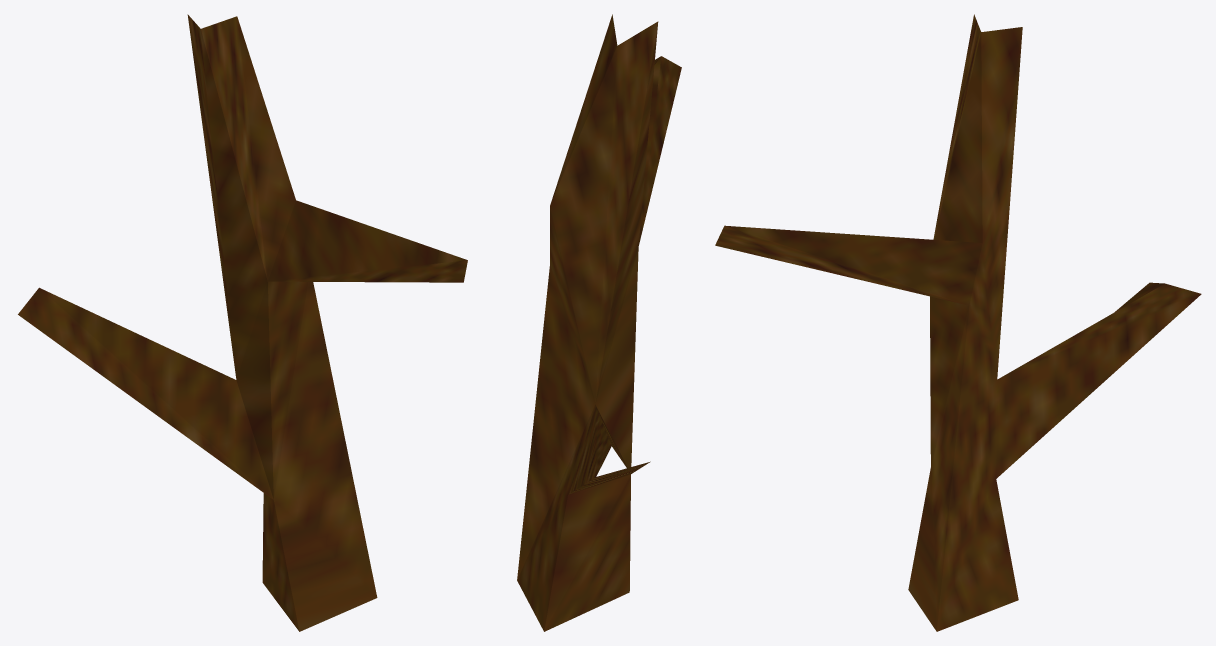
File: treebranch03.glb
The picture shows the model from 3 angles, left to right: view 1: azimuth 30°, elevation 25°; view 2: azimuth 150°, elevation 25°; view 3: azimuth 270°, elevation 25°; orthographic projection. The views are drawn at different scales.
Visible parts, largest first — view 1: treebranch03; view 2: treebranch03; view 3: treebranch03.
Part boxes in pixels (x1,y1,x2,y2): treebranch03: (18, 14, 467, 631); treebranch03: (517, 14, 681, 631); treebranch03: (715, 14, 1201, 631).
Bounding box in the file's own units: 282 × 652 × 531.
1 material, 1 textured.
